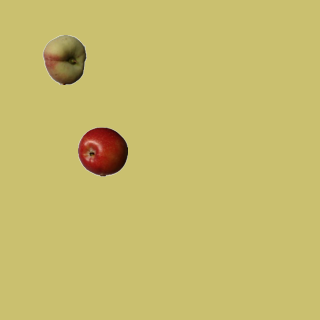Apple Braeburn: (77, 126, 127, 176)
Peach Flat: (39, 34, 89, 84)
